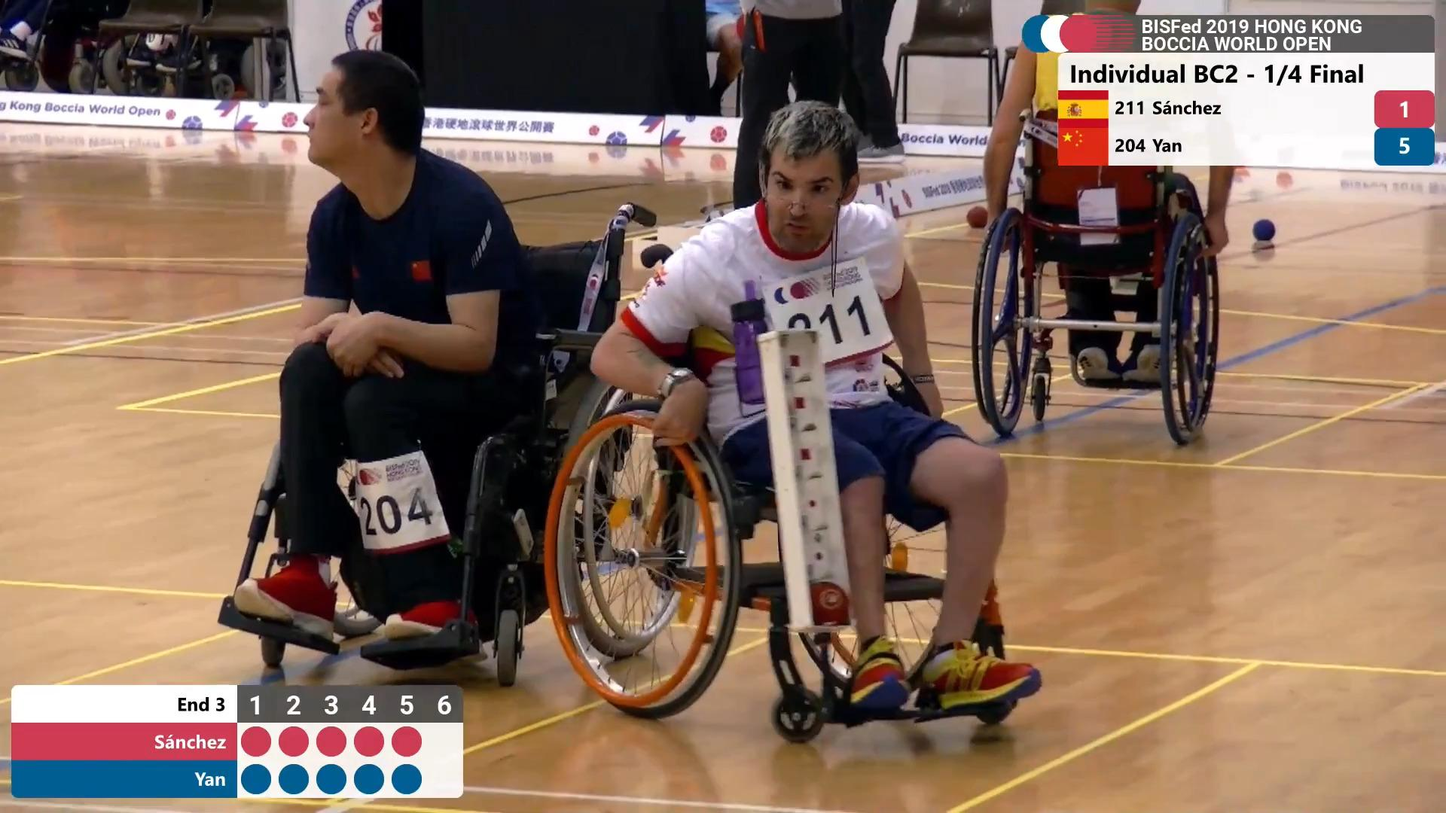blue_ball: (1249, 216, 1281, 246)
red_ball: (796, 577, 858, 629), (961, 202, 992, 233)
